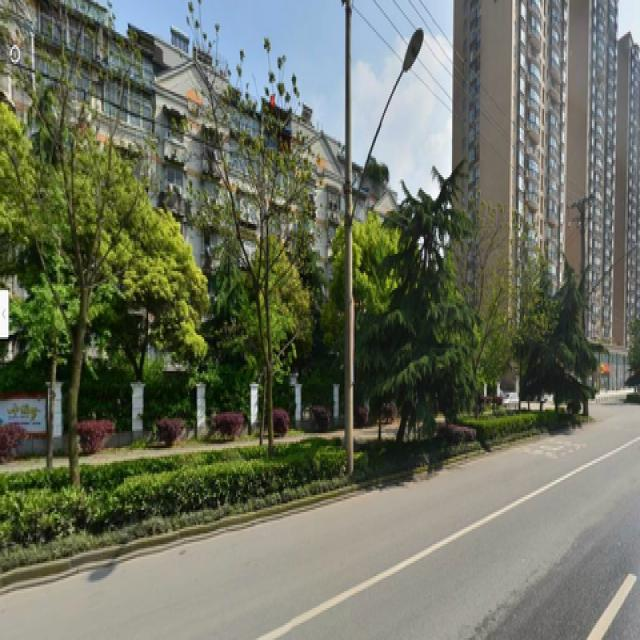cedr: (388, 171, 468, 446)
